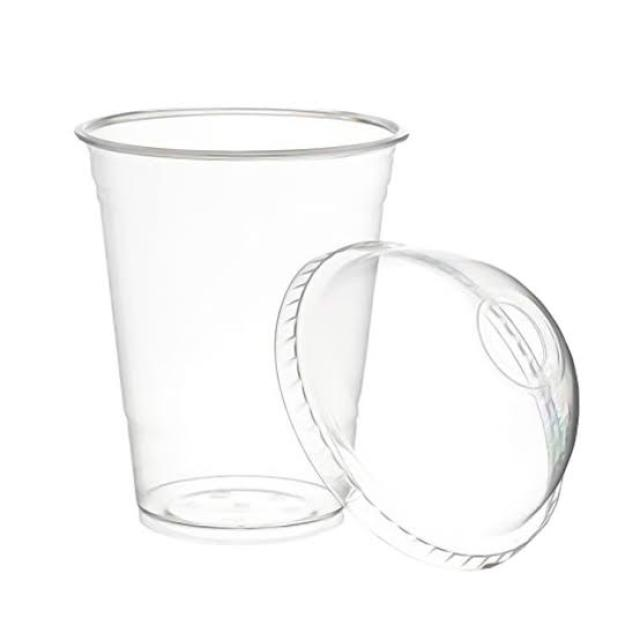plastic: (74, 91, 588, 578)
